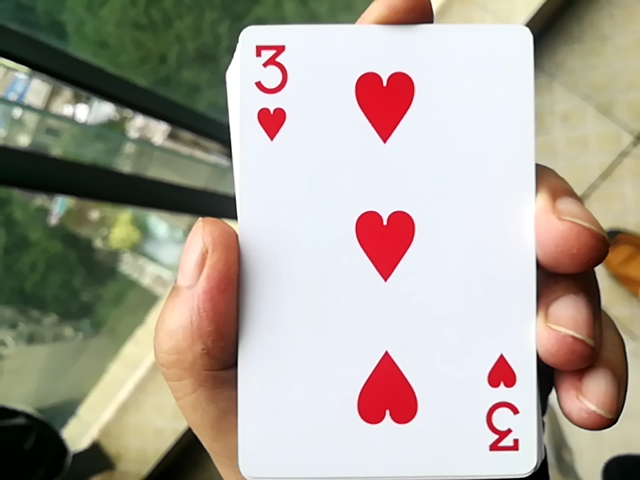hx 3: (207, 8, 538, 480)
